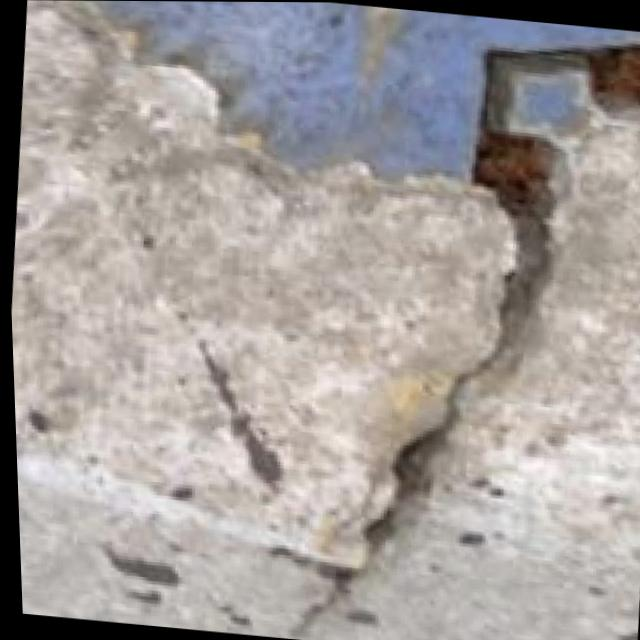Crack: (260, 20, 640, 621)
